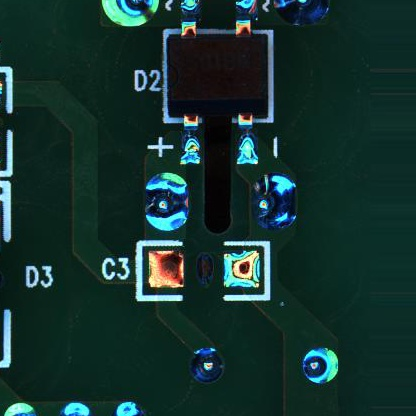spot: (143, 172, 190, 230), (252, 176, 296, 231), (303, 347, 340, 386), (189, 346, 224, 382)
